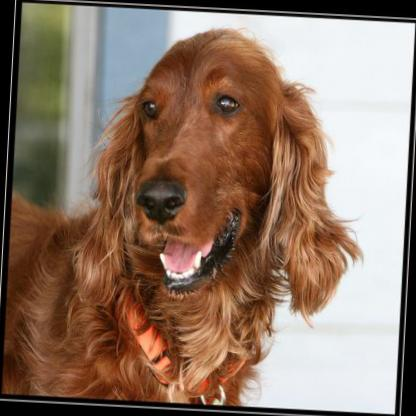Irish_setter: (0, 15, 372, 410)
